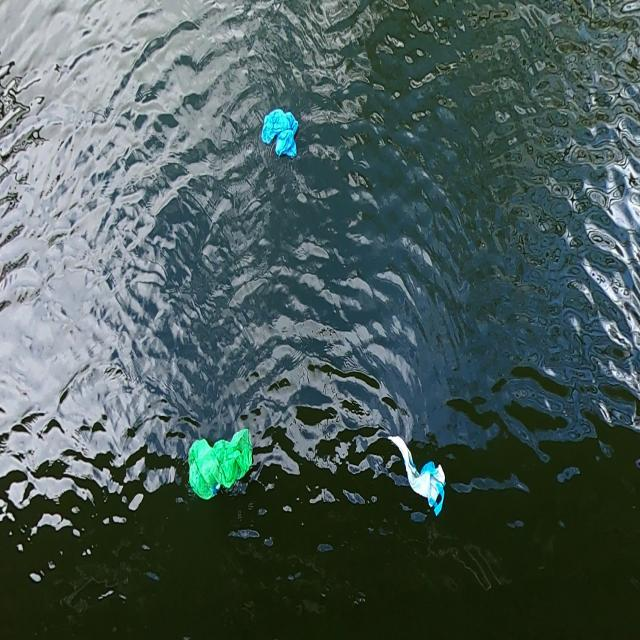Sac plastique: (384, 432, 452, 524), (183, 424, 257, 506), (260, 104, 302, 164)
